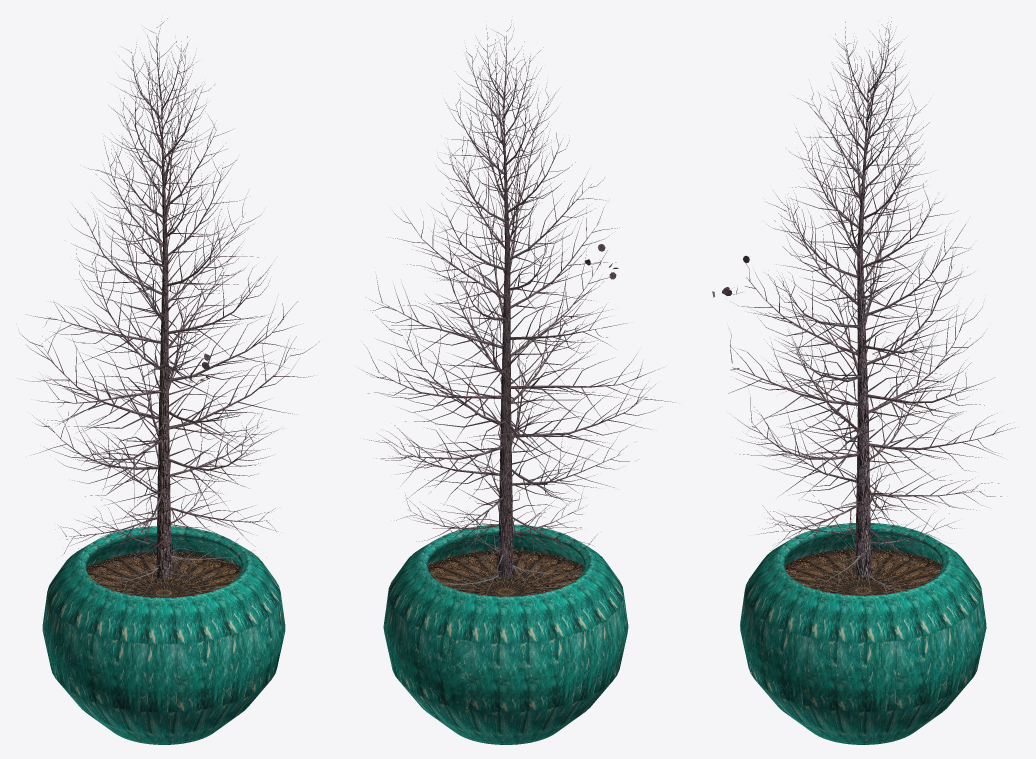
Rendered from Flowerpot.obj.
3 renders of one model, left to right at view 1: azimuth 30°, elevation 25°; view 2: azimuth 150°, elevation 25°; view 3: azimuth 270°, elevation 25°, orthographic.
Parts seen in each view (by area): view 1: Mesh; view 2: Mesh; view 3: Mesh.
Part boxes in pixels (x1=…): Mesh: x1=18, y1=18, x2=319, y2=744; Mesh: x1=361, y1=20, x2=674, y2=744; Mesh: x1=712, y1=17, x2=1015, y2=744.
Bounding box in the file's own units: 2.49 × 5.8 × 2.3.
4 materials, 3 textured.
